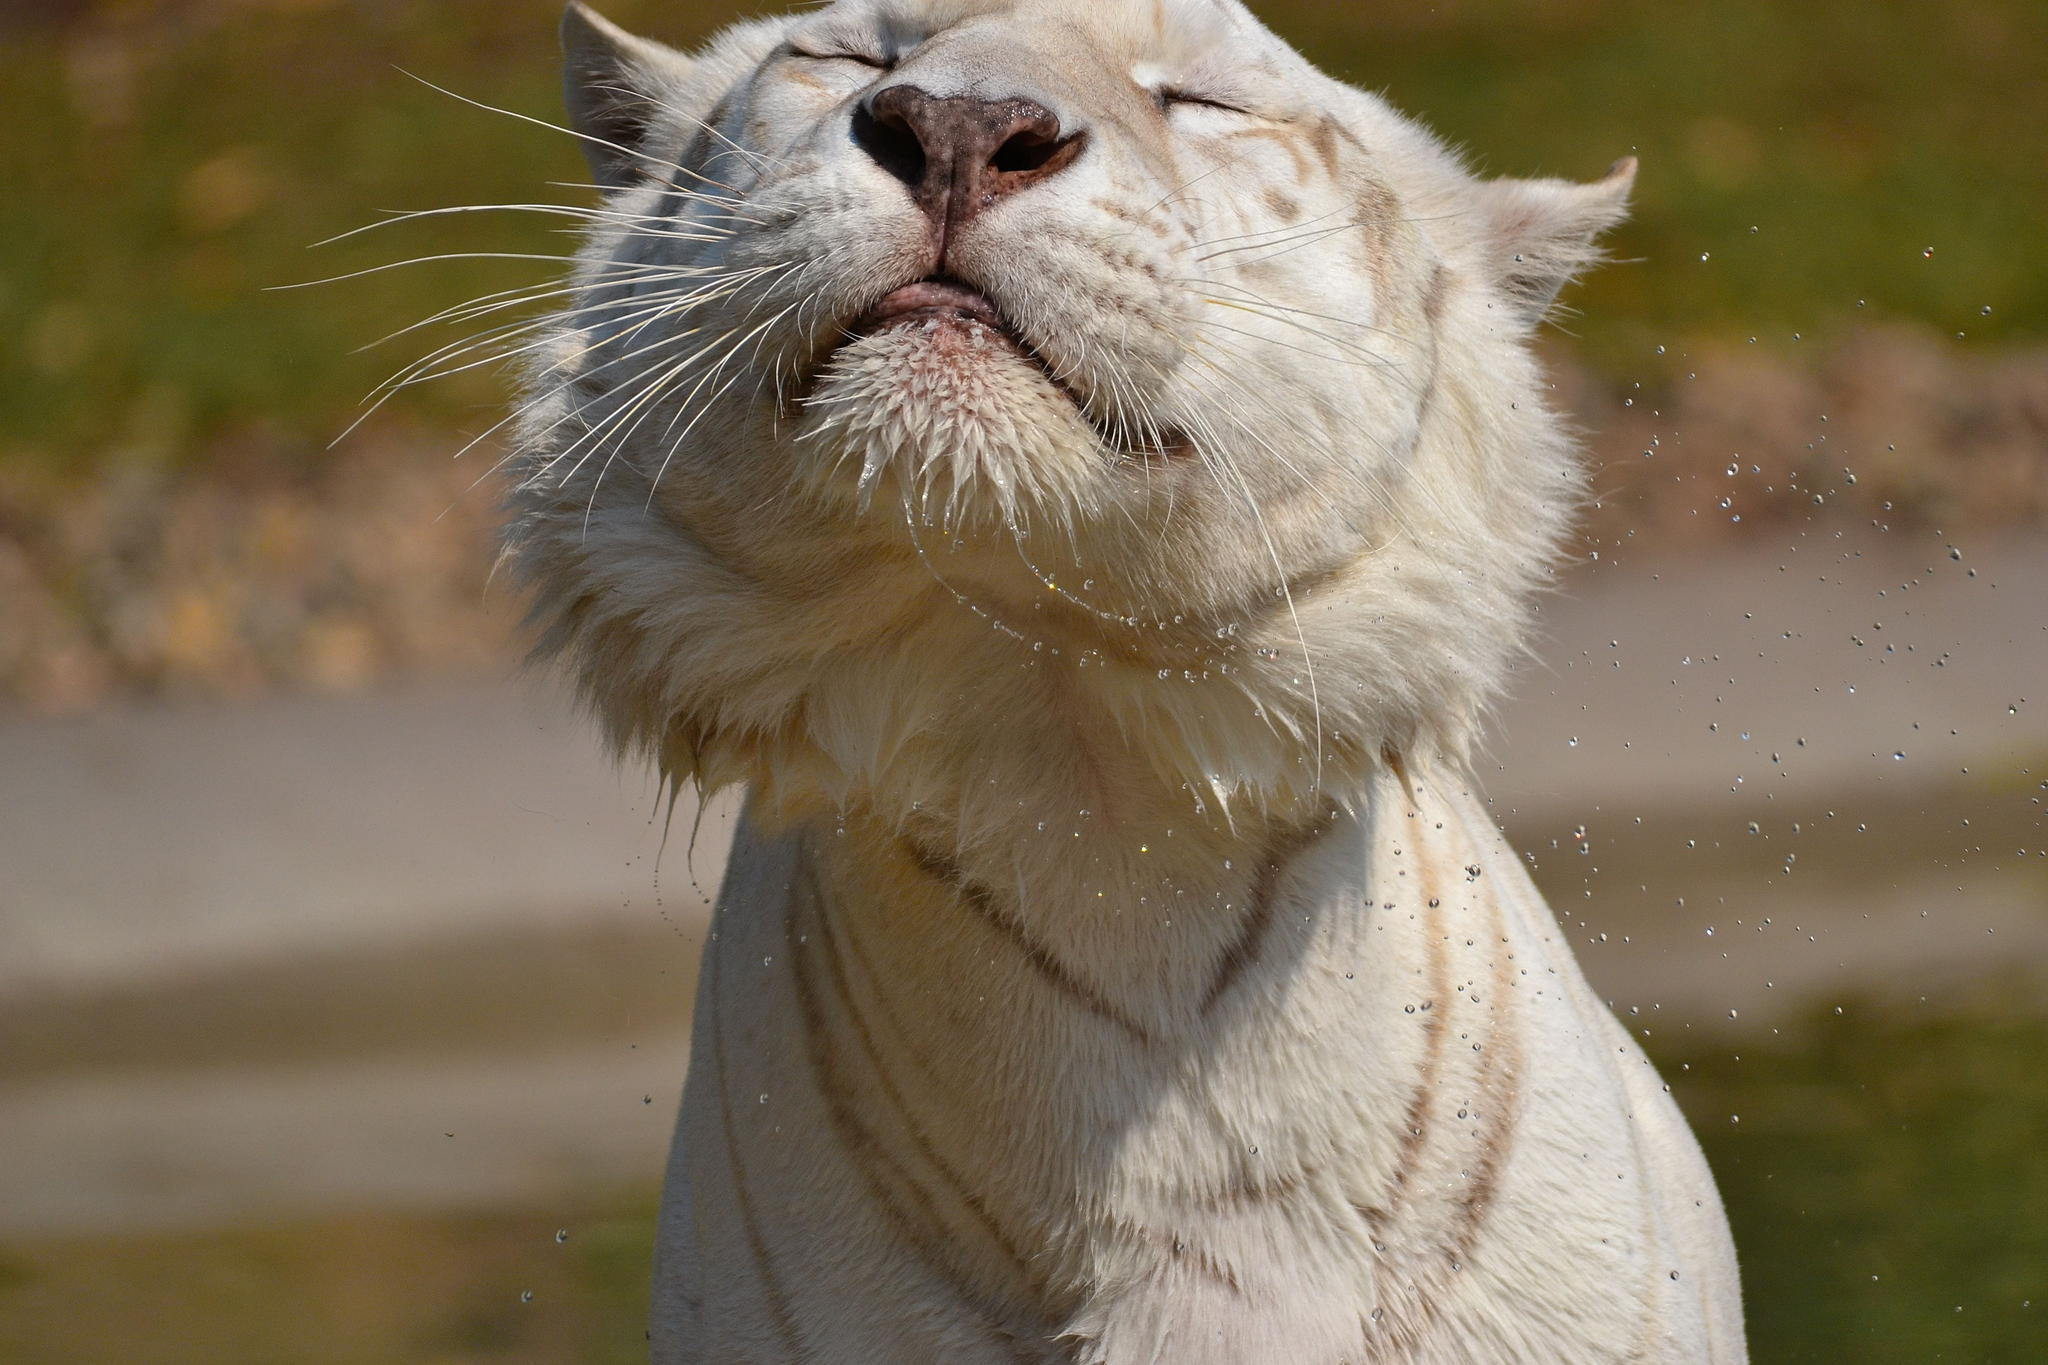tiger: (538, 17, 1763, 1325)
